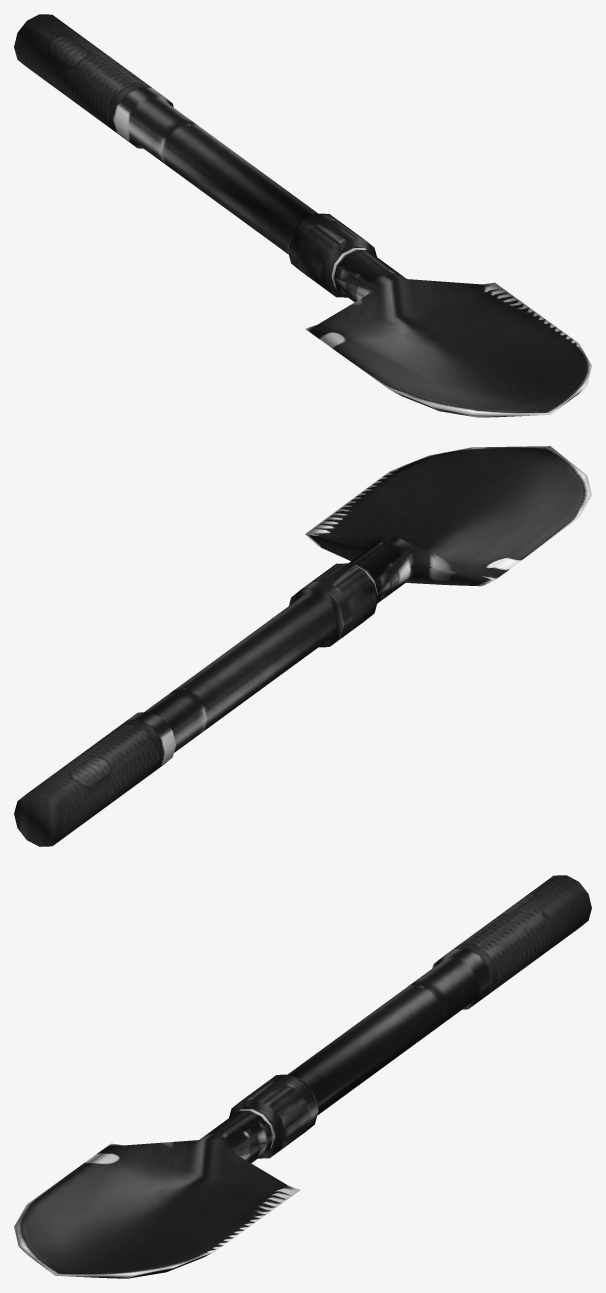
Rendered from shovel.glb.
3 renders of one model, top to bottom at view 1: azimuth 30°, elevation 25°; view 2: azimuth 150°, elevation 25°; view 3: azimuth 330°, elevation 25°, orthographic.
Parts seen in each view (by area): view 1: Cylinder; view 2: Cylinder; view 3: Cylinder.
Boxes of the visible parts, bbox=[...] form: Cylinder: bbox=[14, 14, 591, 417]; Cylinder: bbox=[14, 446, 591, 846]; Cylinder: bbox=[14, 875, 591, 1278].
Bounding box in the file's own units: 1.06 × 0.3136 × 4.93.
1 material, 1 textured.
